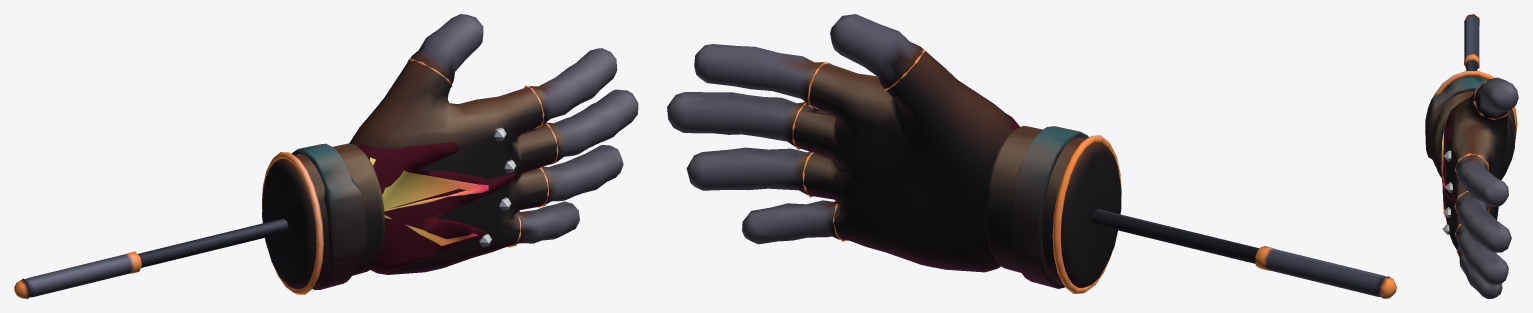
Rendered from glove_fire.glb.
3 views of the same model, side by side, from view 1: azimuth 30°, elevation 25°; view 2: azimuth 150°, elevation 25°; view 3: azimuth 270°, elevation 25° (orthographic). The views are drawn at different scales.
Visible parts, largest first — view 1: Glove, Stick, Glow; view 2: Glove, Stick, Glow; view 3: Glove, Glow, Stick.
Part boxes in pixels (x1,y1,x2,y2): Glove: (262, 14, 638, 290); Stick: (14, 218, 288, 298); Glow: (262, 58, 558, 294); Glove: (667, 14, 1121, 288); Stick: (1092, 209, 1396, 298); Glow: (792, 49, 1121, 293); Glove: (1425, 75, 1518, 298); Glow: (1433, 71, 1517, 257); Stick: (1464, 14, 1479, 70).
Size of the model in its own units: 1.17 by 0.4067 by 0.1909.
